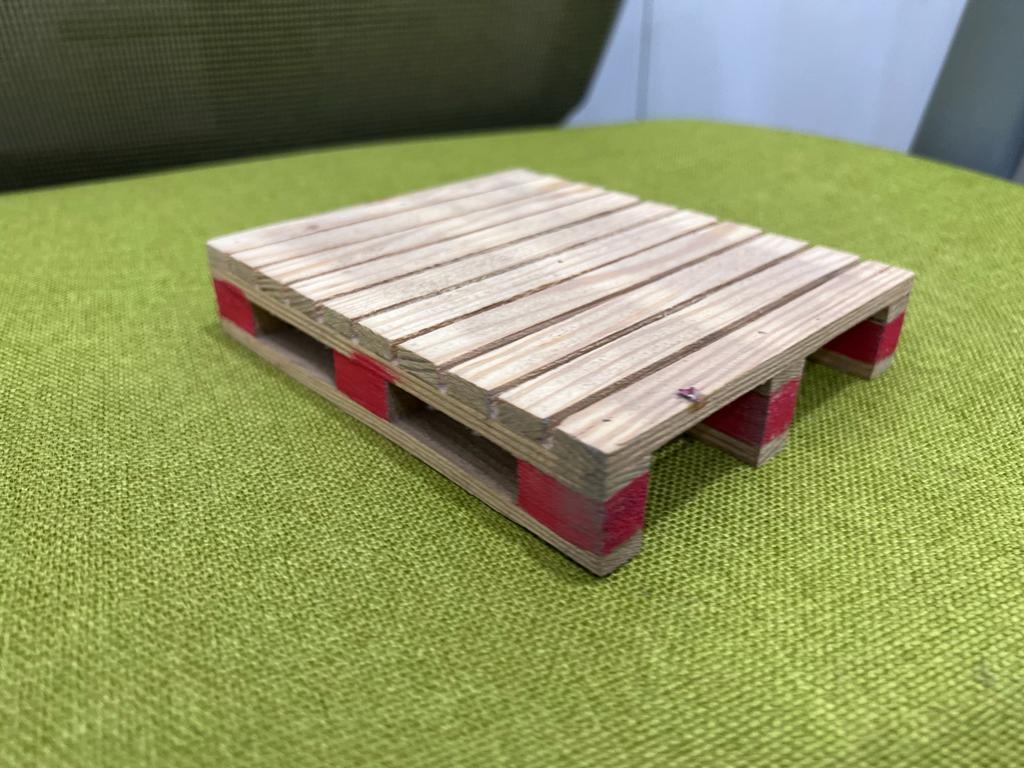\: (155, 170, 918, 581)
